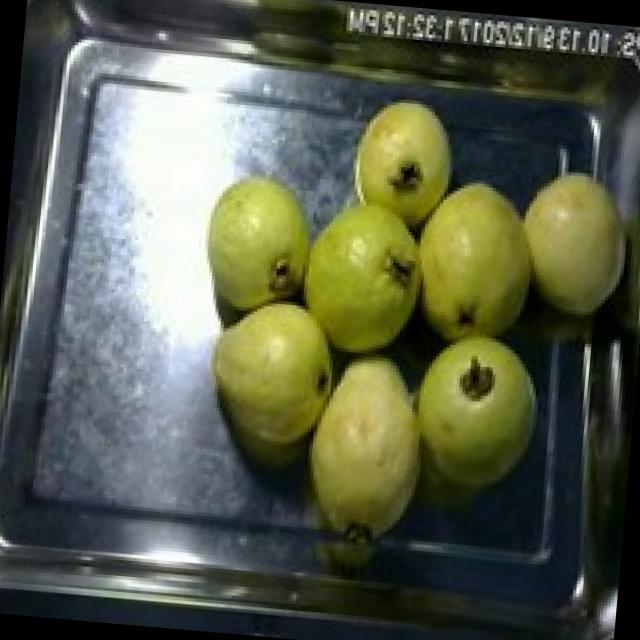Fruit: (288, 335, 443, 548), (192, 285, 357, 476), (282, 183, 428, 373), (402, 316, 554, 497), (414, 166, 552, 364), (503, 157, 640, 331), (188, 159, 326, 329), (338, 85, 468, 242)
